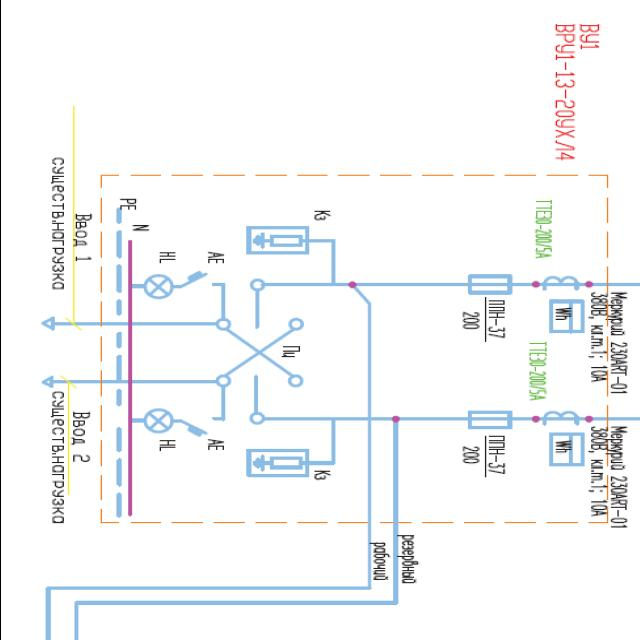-: (544, 23, 580, 165), (587, 288, 631, 398), (586, 422, 630, 531), (460, 297, 508, 344), (458, 434, 506, 481), (522, 339, 552, 405), (525, 198, 554, 264), (202, 436, 230, 454), (278, 342, 302, 360), (204, 248, 227, 266)
FU: (464, 272, 516, 298), (464, 407, 516, 432)
HL: (142, 272, 174, 300), (142, 408, 174, 436)
QF: (177, 414, 220, 440), (174, 268, 218, 292)
TT: (540, 408, 584, 430), (538, 274, 582, 296)
WH: (546, 298, 586, 338), (544, 430, 584, 470)
switch: (215, 278, 306, 338), (213, 369, 305, 428)
